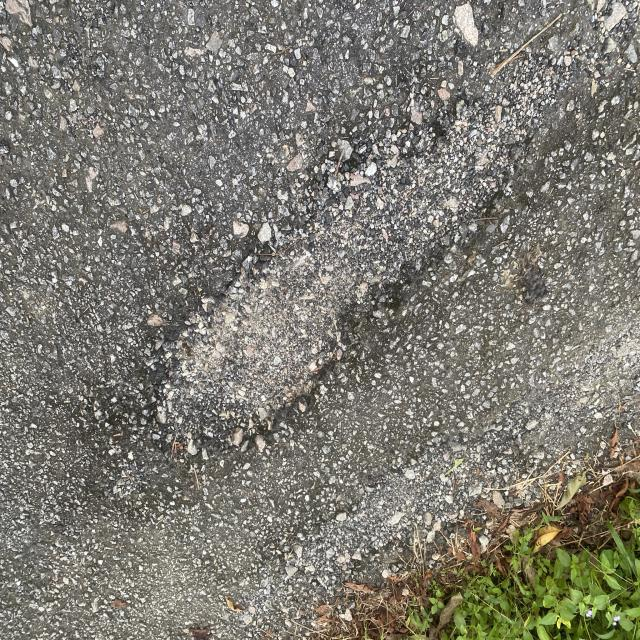Pothole: (140, 164, 508, 432)
